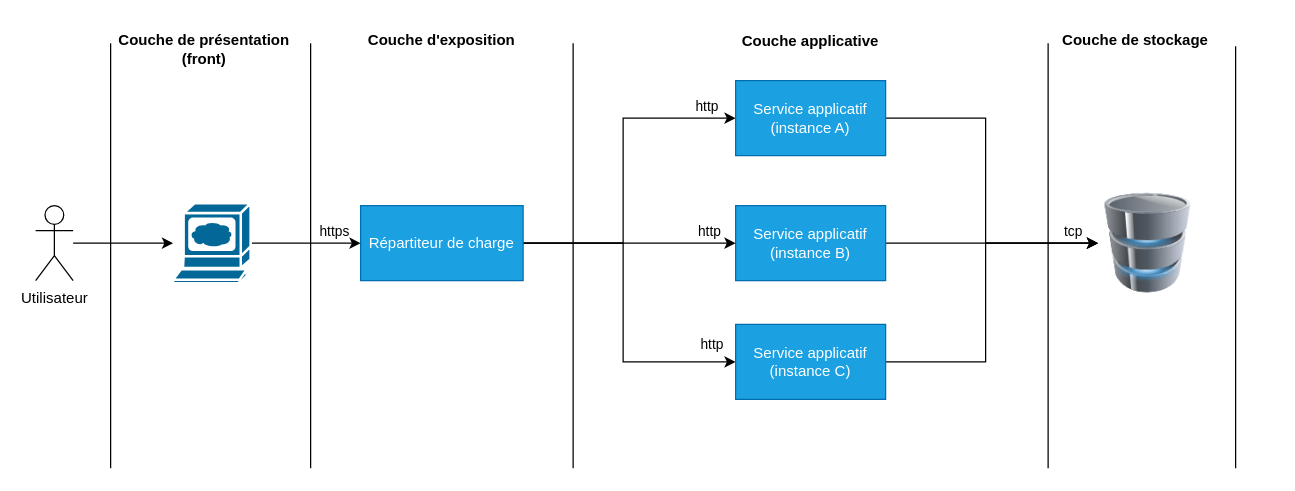
Image size: 1295x491. Some labels were removed from this diagram. Here are the shapes that lost their labels. From the top down, the centre of each, then its label:
(x=211, y=242): Navigateur (HTML, JS, CSS)
(x=1148, y=242): Base de données
